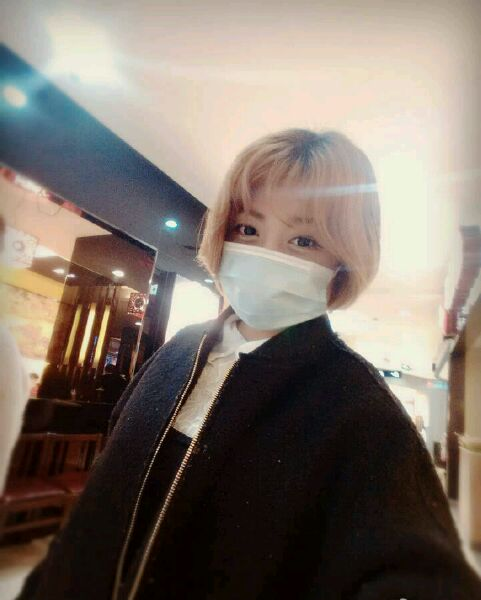face_mask: (220, 166, 338, 336)
